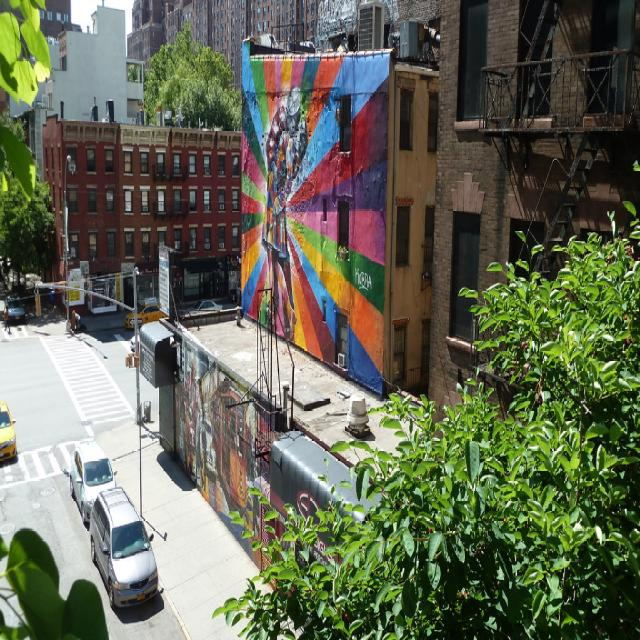car: (88, 484, 158, 614)
